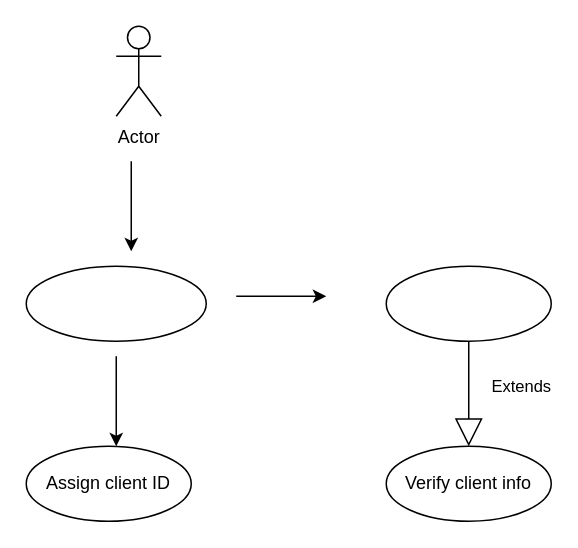
Some shapes in this 578 by 548 pixel diagram are drawn without their labels. Each missing label, with the centre of its shape:
"Collect Client info" belongs at (x=468, y=303).
"Register New Client" belongs at (x=115, y=303).
